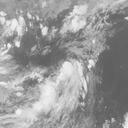cyclone: (35, 39, 94, 109)
